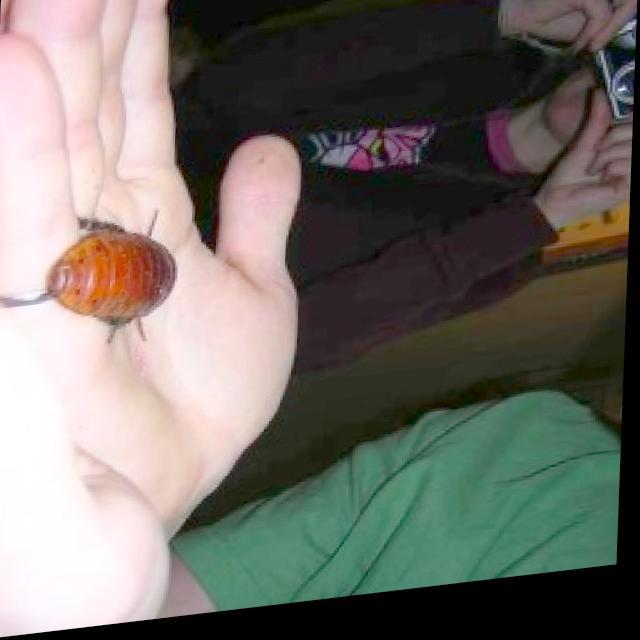cockroach: (22, 209, 193, 353)
